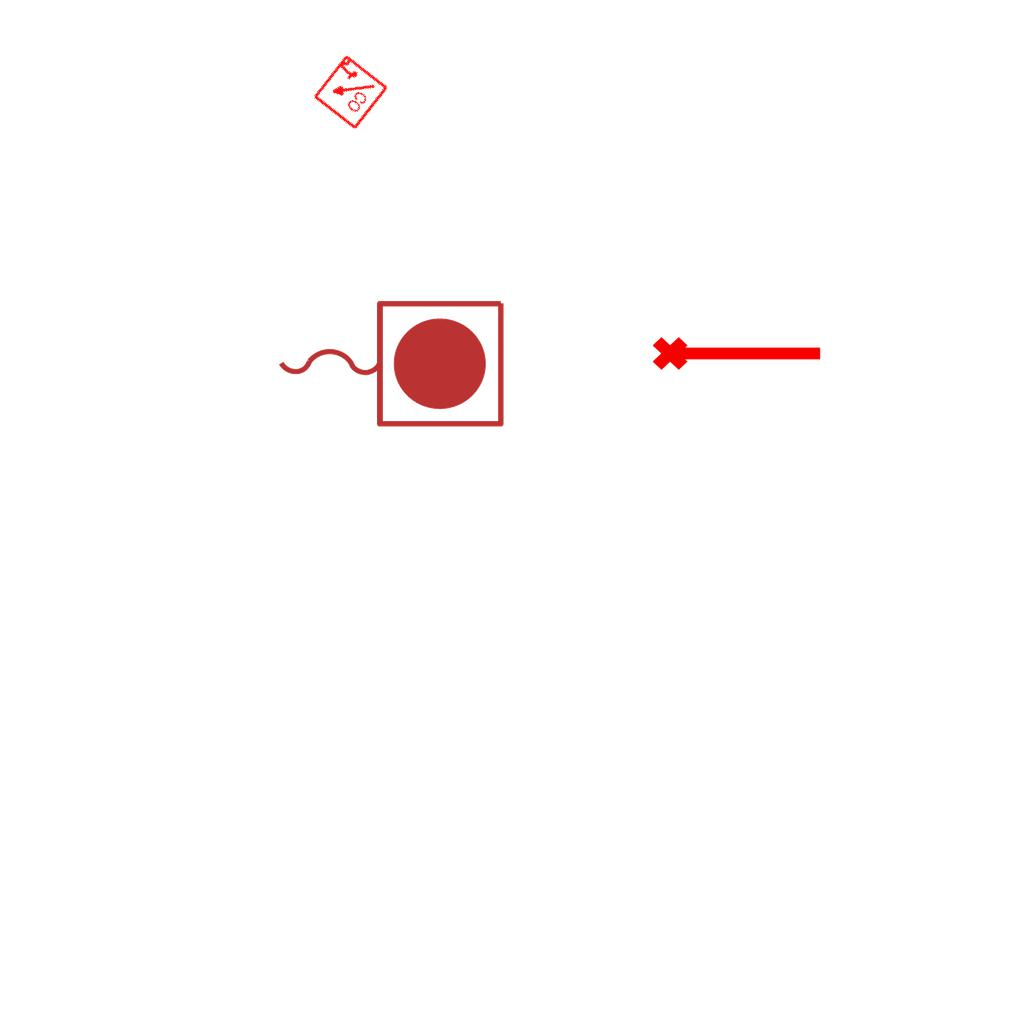ASR_Ansaugoeffnung: (650, 328, 826, 374)
ROA_Rauchmelder_optisch_mit_Signalgeber_(Sockelsirene): (310, 52, 390, 132)
Zugtaster: (268, 290, 512, 434)
